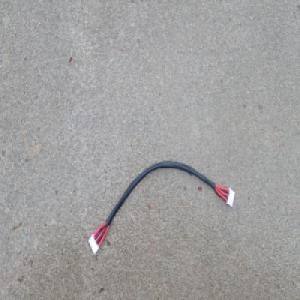Wire: (87, 159, 235, 255)
